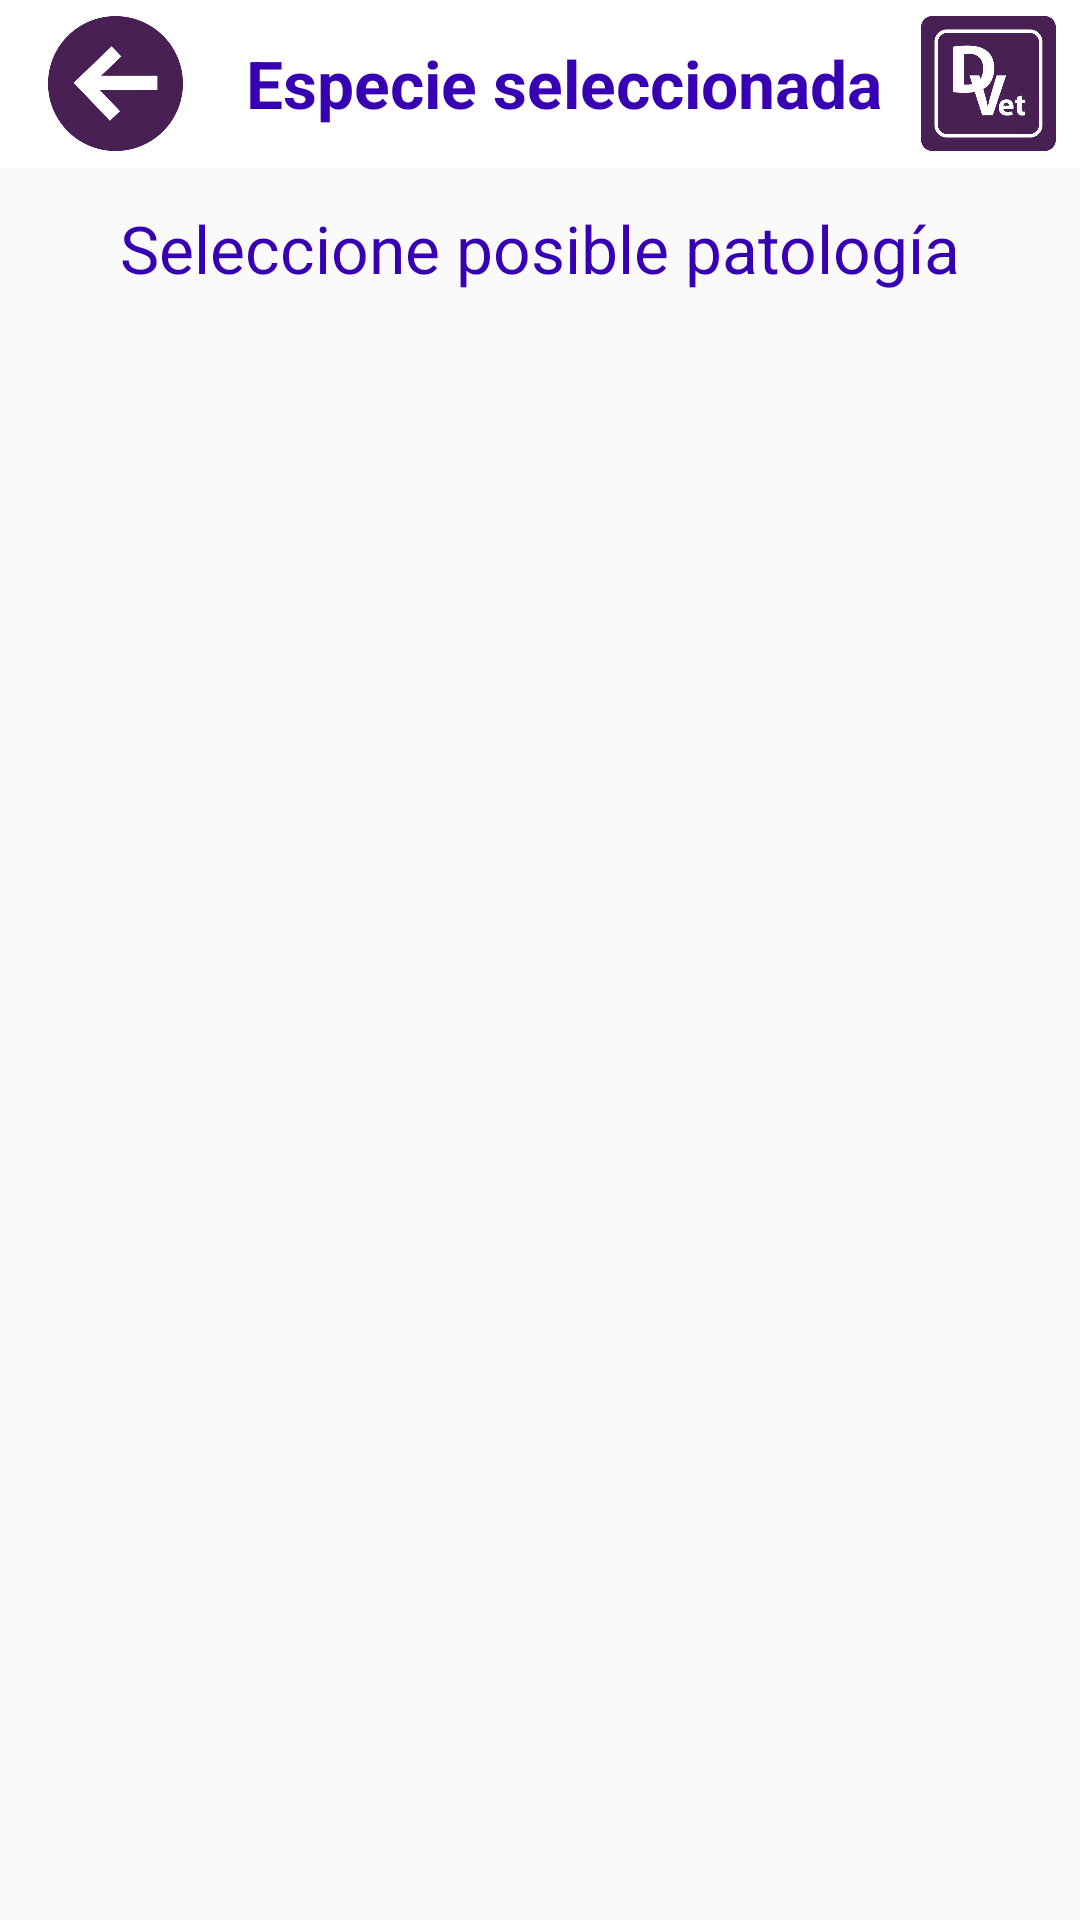

Icon bounding boxes for this 1080w x 1920h phone screenshot, format (x1, y1, x2, y2):
back: (48, 16, 183, 151)
